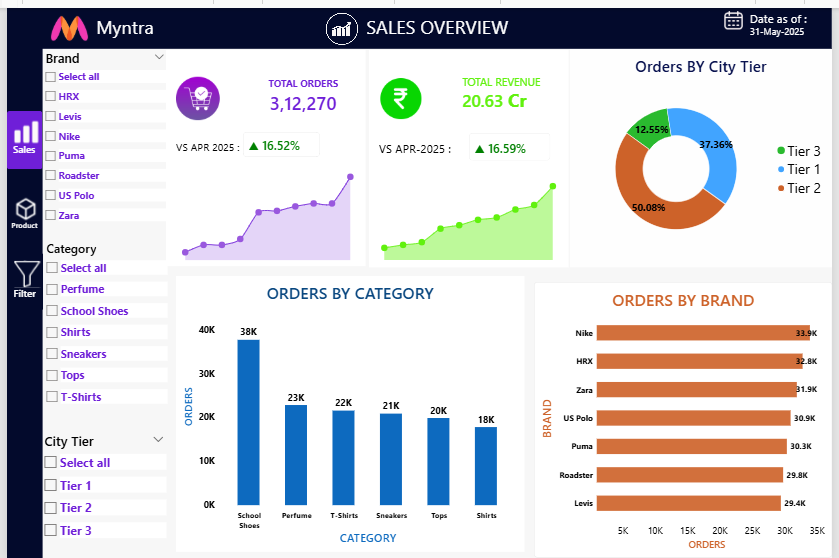

What the dashboard file says about the page in this screenshot:
{"tool":"powerbi","page":{"name":"Sales ","canvas":[1920,1280],"ordinal":0},"visuals":[{"type":"group","id":"g1","title":"Left Pane","box":[0,0,84.5,1456.3],"z":0},{"type":"shape","title":"Pane","box":[0,0,82.9,1456.3],"z":0,"group":"g1"},{"type":"shape","title":"TOP Shap","box":[82.1,0,1838.2,95],"z":0,"group":"g2"},{"type":"shape","box":[370,97.7,464.7,503.2],"z":0,"group":"g3"},{"type":"shape","box":[843.6,97.7,464.7,506.2],"z":0,"group":"g4"},{"type":"cardVisual","fields":{"Data":["ALL_Measure.Orders Arrow"]},"box":[597.8,298.2,179.2,58.9],"z":500,"group":"g3"},{"type":"image","title":"Logo","box":[77.8,0,136.1,95],"z":1000,"group":"g2"},{"type":"group","id":"g2","title":"Top Pane","box":[77.8,0,1842.5,97.2],"z":1000},{"type":"cardVisual","fields":{"Data":["ALL_Measure.TOTAL REVENUE"]},"box":[1049,108,236.8,180.6],"z":1000,"group":"g4"},{"type":"cardVisual","fields":{"Data":["ALL_Measure.TOTAL ORDERS"]},"box":[574.6,116.1,229.1,177.3],"z":1000,"group":"g3"},{"type":"actionButton","title":"Sales","box":[0,240.6,81.9,135.7],"z":1000,"group":"g1"},{"type":"textbox","box":[394.2,307.2,248.3,51.2],"z":1500,"group":"g3"},{"type":"textbox","box":[866.1,308.4,209.2,45.6],"z":1500,"group":"g4"},{"type":"textbox","title":"Logo_Text","box":[198.8,13,153.4,69.1],"z":2000,"group":"g2"},{"type":"group","id":"g3","title":"Total Order","box":[370,97.7,464.7,505.1],"z":2000},{"type":"image","box":[392.7,134.7,101.7,151],"z":2000,"group":"g3"},{"type":"image","box":[866.3,134.9,101.7,151.9],"z":2000,"group":"g4"},{"type":"actionButton","title":"Product","box":[0,419.8,79.4,120.3],"z":2000,"group":"g1"},{"type":"group","id":"g4","title":"Total Revenue","box":[843.6,97.7,464.7,506.2],"z":2500},{"type":"cardVisual","fields":{"Data":["ALL_Measure.Revenue Arrow"]},"box":[1075.2,291.9,189.4,64],"z":2500,"group":"g4"},{"type":"image","title":"Sales Logo","box":[730.1,0,101.5,97.2],"z":3000,"group":"g2"},{"type":"slicer","title":"Brand Slicer","fields":{"Values":["myntra_product_catalog.Brand_Name"]},"box":[81.6,94.8,292.3,426.7],"z":3000},{"type":"stackedAreaChart","fields":{"Category":["Order_Data.SKU"],"Y":["ALL_Measure.TOTAL REVENUE"]},"box":[845,358.1,459,245.3],"z":3000,"group":"g4"},{"type":"stackedAreaChart","fields":{"Category":["Order_Data.SKU"],"Y":["ALL_Measure.TOTAL ORDERS"]},"box":[382.8,418.5,448,184.3],"z":3000,"group":"g3"},{"type":"actionButton","title":"Filter","box":[2.6,570.9,81.9,133.1],"z":3000,"group":"g1"},{"type":"textbox","title":"Title","box":[831.6,13,341.3,69.1],"z":4000,"group":"g2"},{"type":"textbox","box":[1166.2,177.6,74,65.1],"z":4000,"group":"g4"},{"type":"slicer","title":"Category Slicer","fields":{"Values":["myntra_product_catalog.Category"]},"box":[84.3,539.9,289.7,405.6],"z":4000},{"type":"textbox","title":"Data Info","box":[1730.2,6.5,140.4,47.5],"z":5000,"group":"g2"},{"type":"slicer","title":"City Tier Slicer","fields":{"Values":["Order_Data.City_Tier"]},"box":[79,987.7,292.3,292.3],"z":5000},{"type":"image","title":"canlander","box":[1652.4,6.5,77.8,43.2],"z":6000,"group":"g2"},{"type":"donutChart","title":"Orders BY City Tier","fields":{"Category":["Order_Data.City_Tier"],"Y":["ALL_Measure.TOTAL ORDERS"]},"box":[1310.4,94.6,609.6,508],"z":6000},{"type":"textbox","title":"date","box":[1730.2,38.9,159.8,58.3],"z":7000,"group":"g2"},{"type":"clusteredColumnChart","title":"ORDERS BY CATEGORY","fields":{"Category":["Order_Data.Category"],"Y":["ALL_Measure.TOTAL ORDERS"]},"box":[393.7,624.6,811,642.3],"z":7000},{"type":"clusteredBarChart","title":"ORDERS BY BRAND","fields":{"Category":["myntra_product_catalog.Brand_Name"],"Y":["ALL_Measure.TOTAL ORDERS"]},"box":[1226.3,637.7,693.7,641.2],"z":8000}]}

Visuals, with their boxes in screenshot pixels (x1, y1, x2, y2), scaled from the page's 1920x1280 canvas onto the 839x558 screenshot:
"Left Pane" group: [x1=0, y1=0, x2=37, y2=557]
"Pane" shape: [x1=0, y1=0, x2=36, y2=557]
"TOP Shap" shape: [x1=36, y1=0, x2=838, y2=41]
shape: [x1=162, y1=43, x2=365, y2=262]
shape: [x1=369, y1=43, x2=572, y2=263]
cardVisual - ALL_Measure.Orders Arrow: [x1=261, y1=130, x2=340, y2=156]
"Logo" image: [x1=34, y1=0, x2=93, y2=41]
"Top Pane" group: [x1=34, y1=0, x2=838, y2=42]
cardVisual - ALL_Measure.TOTAL REVENUE: [x1=458, y1=47, x2=562, y2=126]
cardVisual - ALL_Measure.TOTAL ORDERS: [x1=251, y1=51, x2=351, y2=128]
"Sales" actionButton: [x1=0, y1=105, x2=36, y2=164]
textbox: [x1=172, y1=134, x2=281, y2=156]
textbox: [x1=378, y1=134, x2=470, y2=154]
"Logo_Text" textbox: [x1=87, y1=6, x2=154, y2=36]
"Total Order" group: [x1=162, y1=43, x2=365, y2=263]
image: [x1=172, y1=59, x2=216, y2=125]
image: [x1=379, y1=59, x2=423, y2=125]
"Product" actionButton: [x1=0, y1=183, x2=35, y2=235]
"Total Revenue" group: [x1=369, y1=43, x2=572, y2=263]
cardVisual - ALL_Measure.Revenue Arrow: [x1=470, y1=127, x2=553, y2=155]
"Sales Logo" image: [x1=319, y1=0, x2=363, y2=42]
"Brand Slicer" slicer: [x1=36, y1=41, x2=163, y2=227]
stackedAreaChart - Order_Data.SKU x ALL_Measure.TOTAL REVENUE: [x1=369, y1=156, x2=570, y2=263]
stackedAreaChart - Order_Data.SKU x ALL_Measure.TOTAL ORDERS: [x1=167, y1=182, x2=363, y2=263]
"Filter" actionButton: [x1=1, y1=249, x2=37, y2=307]
"Title" textbox: [x1=363, y1=6, x2=513, y2=36]
textbox: [x1=510, y1=77, x2=542, y2=106]
"Category Slicer" slicer: [x1=37, y1=235, x2=163, y2=412]
"Data Info" textbox: [x1=756, y1=3, x2=817, y2=24]
"City Tier Slicer" slicer: [x1=35, y1=431, x2=162, y2=557]
"canlander" image: [x1=722, y1=3, x2=756, y2=22]
"Orders BY City Tier" donutChart: [x1=573, y1=41, x2=838, y2=263]
"date" textbox: [x1=756, y1=17, x2=826, y2=42]
"ORDERS BY CATEGORY" clusteredColumnChart: [x1=172, y1=272, x2=526, y2=552]
"ORDERS BY BRAND" clusteredBarChart: [x1=536, y1=278, x2=838, y2=557]
